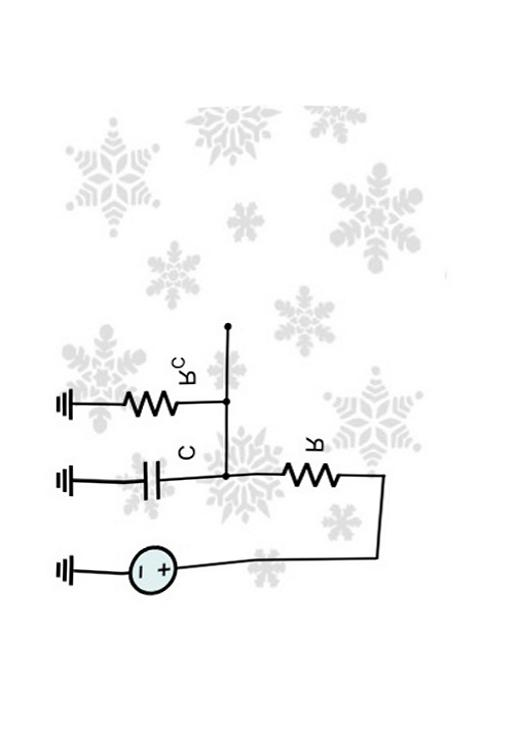Battery: (97, 521, 199, 623)
